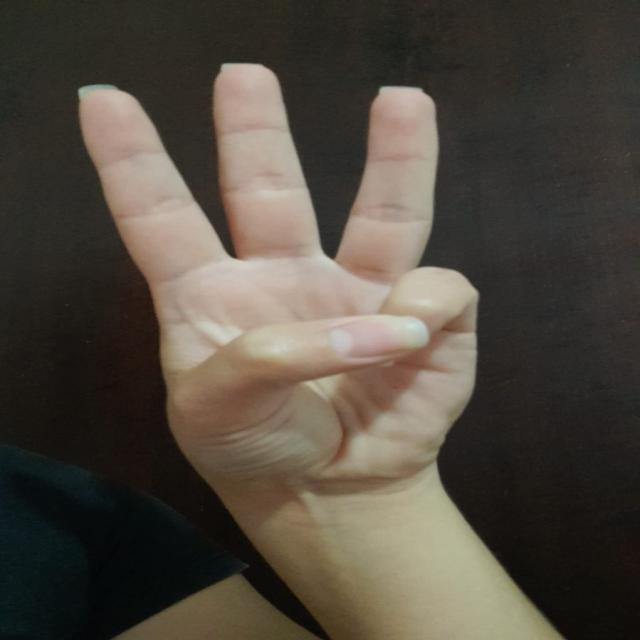W: (64, 54, 523, 496)
